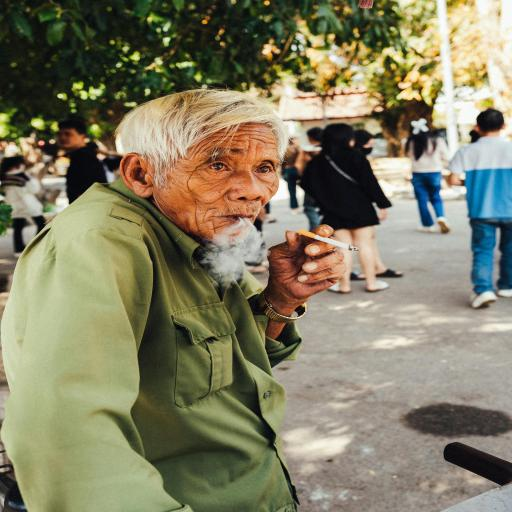terdeteksi pegang rokok: (270, 209, 368, 307)
